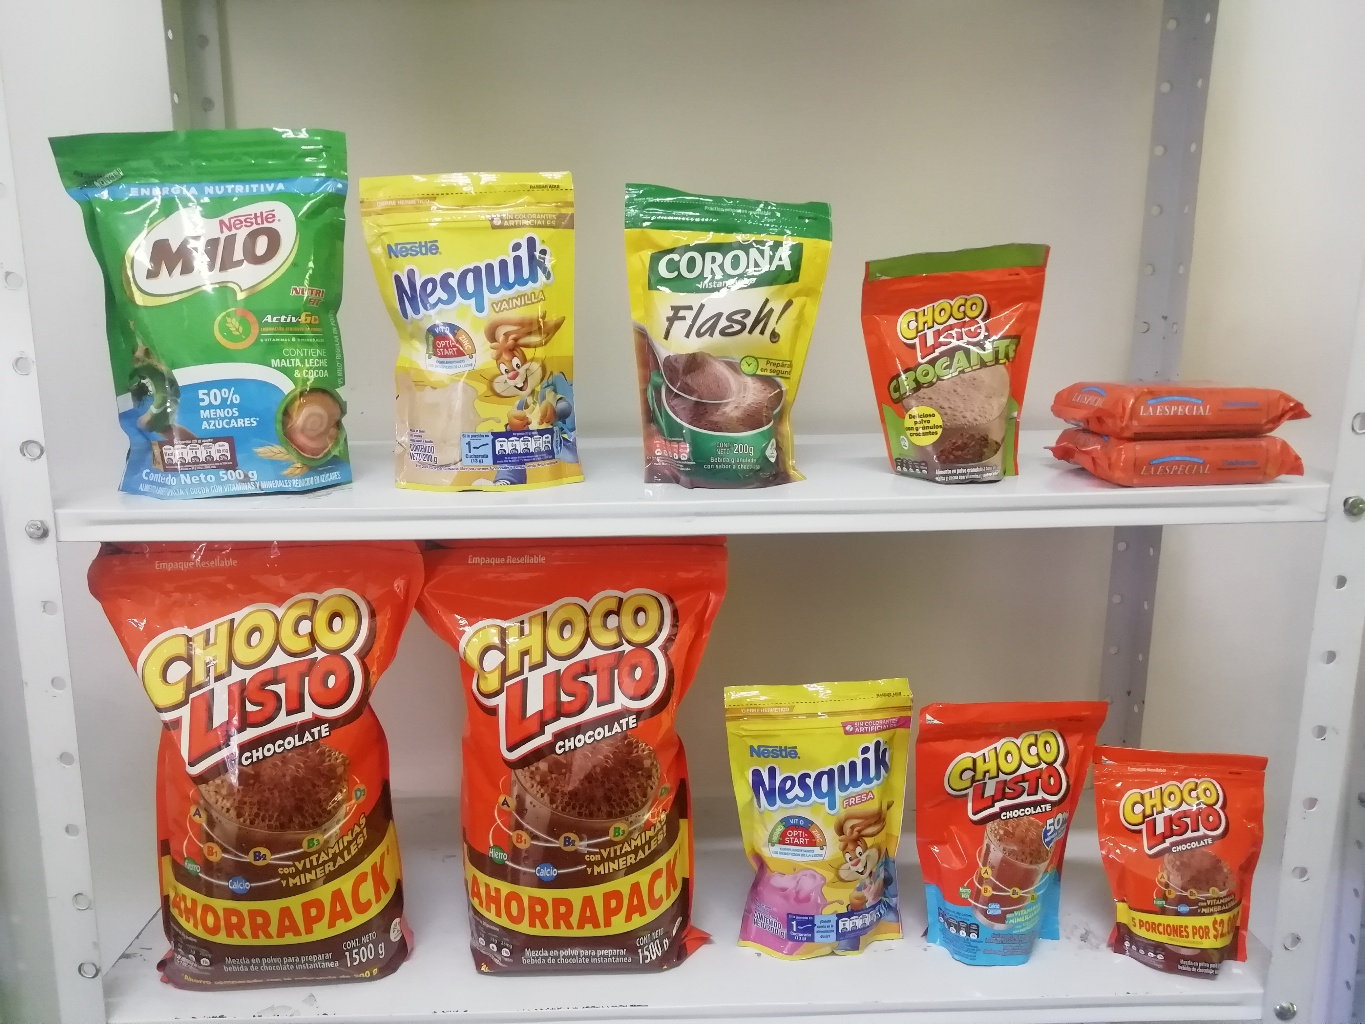COL0170102DYP10000: (861, 242, 1049, 481)
COL0170103DYP1,500: (406, 542, 726, 976)
COL0170103DYP10000: (1095, 743, 1272, 985)
COL0170104DYP20000: (914, 687, 1105, 975)
COL0170205DYP50000: (46, 129, 359, 490)
COL0170305DYP20000: (723, 684, 913, 957)
COL0170306DYP20000: (356, 167, 585, 490)
